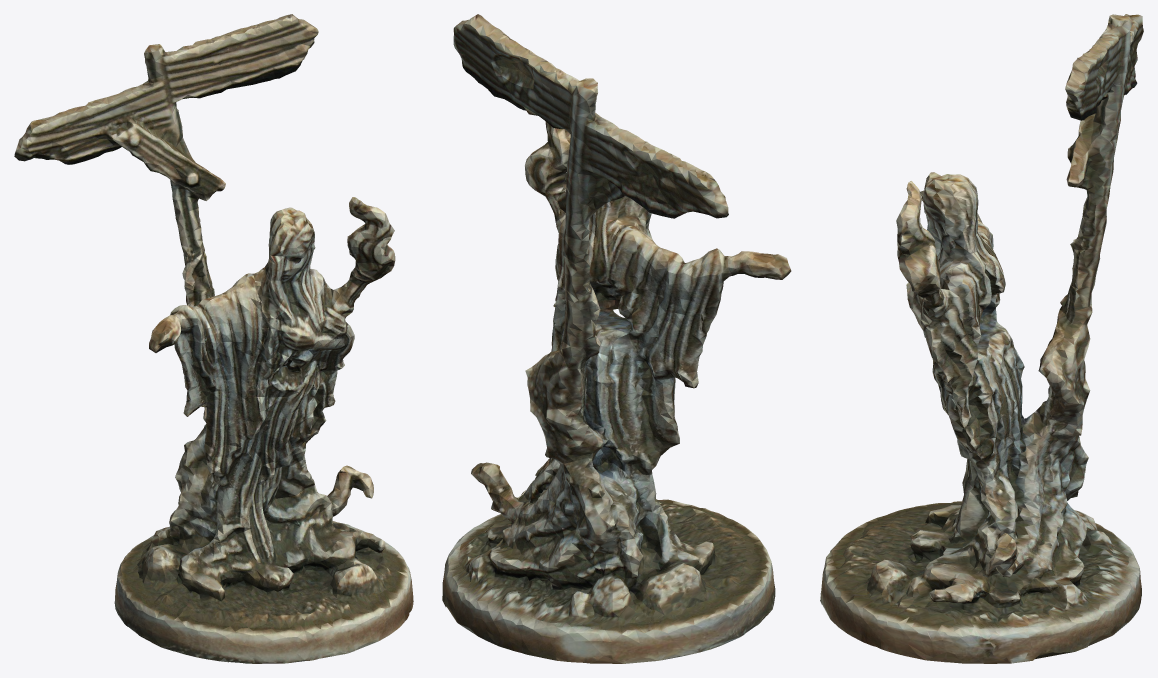
File: torch_bearer.glb
3 views of the same model, side by side, from view 1: azimuth 30°, elevation 25°; view 2: azimuth 150°, elevation 25°; view 3: azimuth 270°, elevation 25° (orthographic). The views are drawn at different scales.
Visible parts, largest first — view 1: geometry_0; view 2: geometry_0; view 3: geometry_0.
Boxes of the visible parts, bbox=[...] form: geometry_0: bbox=[14, 14, 413, 663]; geometry_0: bbox=[442, 14, 791, 663]; geometry_0: bbox=[820, 14, 1143, 663].
Size of the model in its own units: 0.0205 by 0.0341 by 0.0174.
Materials: 1 (1 with a texture image).
